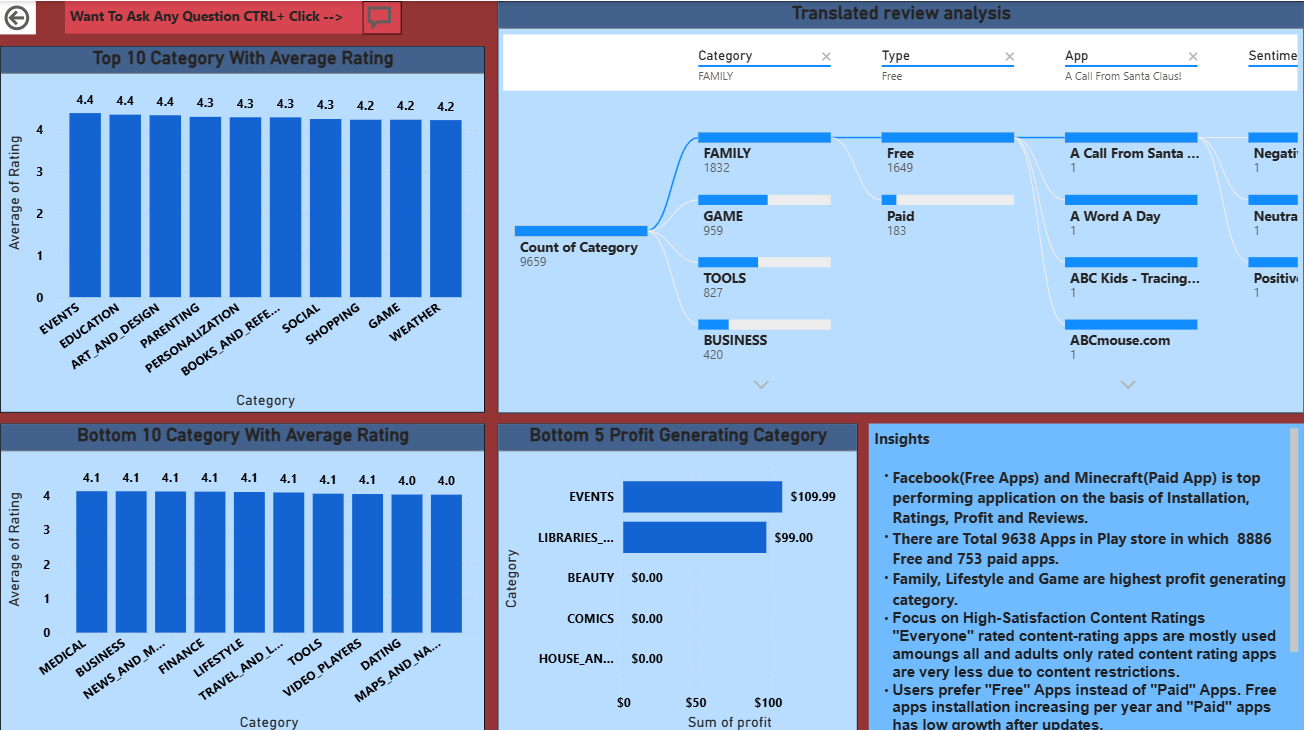

Layout of this report page (visuals, bound fields, positions):
{"tool":"powerbi","page":{"name":"Dashbord 2","canvas":[1280,720],"ordinal":1},"visuals":[{"type":"barChart","title":"Bottom 5 Profit Generating Category","fields":{"Category":["Playstore_data.Category"],"Y":["Sum(Playstore_data.profit)"]},"box":[488.3,414.6,353.4,306.1],"z":0},{"type":"columnChart","title":"Top 10 Category With Average Rating","fields":{"Y":["Avg(Playstore_data.Rating)"],"Category":["Playstore_data.Category"]},"box":[0,44.5,475.8,360.3],"z":1000},{"type":"columnChart","title":"Bottom 10 Category With Average Rating","fields":{"Y":["Avg(Playstore_data.Rating)"],"Category":["Playstore_data.Category"]},"box":[0,414.6,475.8,306.1],"z":2000},{"type":"decompositionTreeVisual","title":"Translated review analysis","fields":{"ExplainBy":["Playstore_data.Category","Playstore_data.Type","User_review_data.App","User_review_data.Sentiment","User_review_data.Translated_Review"],"Analyze":["CountNonNull(Playstore_data.Category)"]},"box":[488.3,0,791.7,404.9],"z":3000},{"type":"actionButton","box":[0,0,35.6,33.1],"z":4000},{"type":"textbox","box":[852.8,414.7,427,305.5],"z":9000},{"type":"actionButton","title":"Ask  a Question","box":[365,0,38.4,32.9],"z":10000},{"type":"textbox","box":[63.1,0,301.9,31.6],"z":11000}]}

Visuals, with their boxes in screenshot pixels (x1, y1, x2, y2), scaled from the page's 1280x720 canvas onto the 1304x730 screenshot:
"Bottom 5 Profit Generating Category" barChart: 497 420 857 729
"Top 10 Category With Average Rating" columnChart: 0 45 485 410
"Bottom 10 Category With Average Rating" columnChart: 0 420 485 729
"Translated review analysis" decompositionTreeVisual: 497 0 1303 411
actionButton: 0 0 36 34
textbox: 869 420 1303 729
"Ask  a Question" actionButton: 372 0 411 33
textbox: 64 0 372 32
